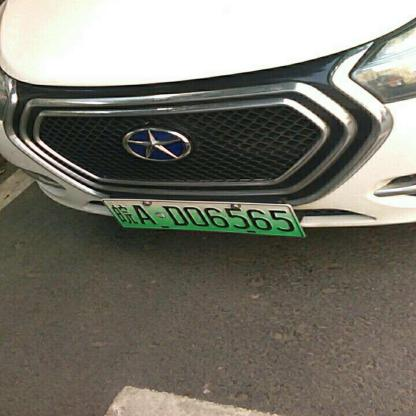lp: (103, 200, 303, 236)
